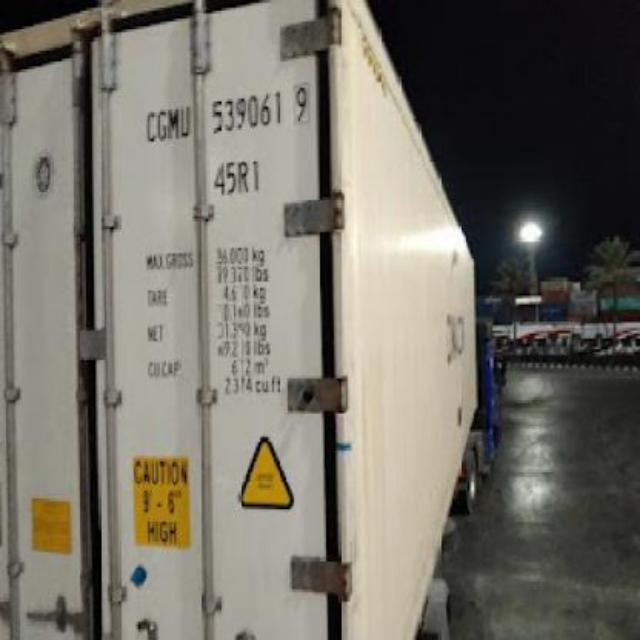0: (247, 93, 260, 131)
1: (272, 90, 284, 128)
3: (224, 96, 236, 130)
5: (210, 98, 223, 134)
6: (260, 93, 274, 125)
9: (296, 83, 308, 121), (236, 96, 248, 128)
C: (146, 109, 158, 141)
G: (156, 109, 170, 141)
M: (166, 106, 182, 142)
U: (178, 103, 192, 141)
